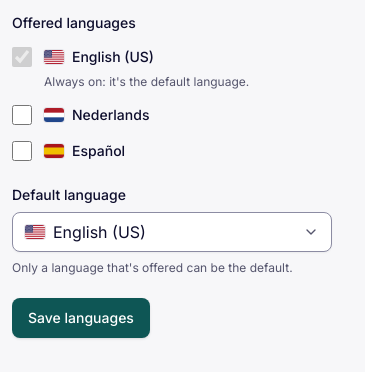
LanguagesForm › offers only the languages that are on as the default, and moves "always on" with it
Click the dropdown named "Default language": (99, 232) [12,212,332,252]
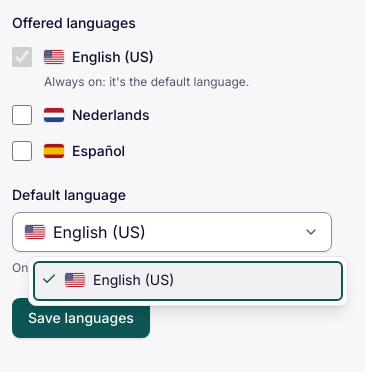
expect the options read "English (US)", in this order: met, box [33,261,343,301]
Press Escape
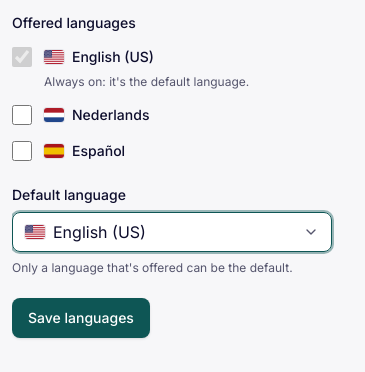
Click the checkbox labelled "Español": (22, 151) [12,141,32,161]
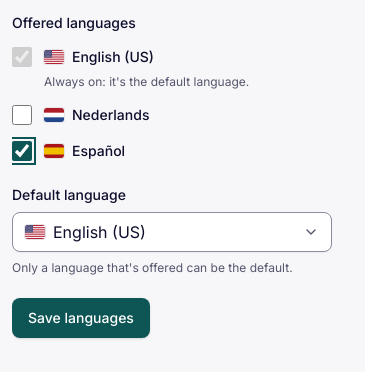
Click the dropdown named "Default language": (99, 232) [12,212,332,252]
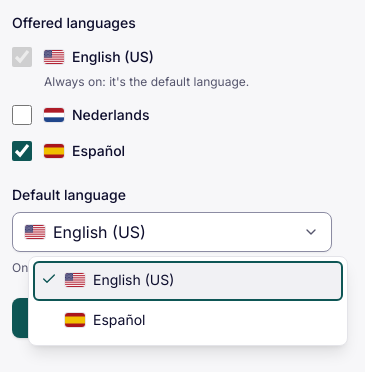
Click the option "Español": (105, 320) [65,311,145,328]
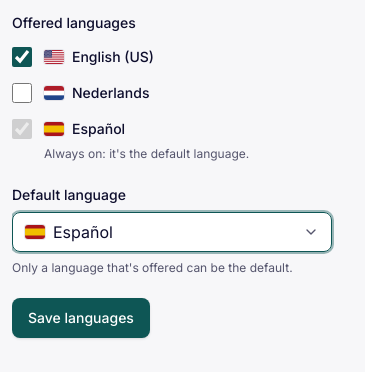
expect the checkbox labelled "Español" is disabled: met, box [12,119,32,139]
expect the checkbox labelled "English (US)" is enabled: met, box [12,47,32,67]
